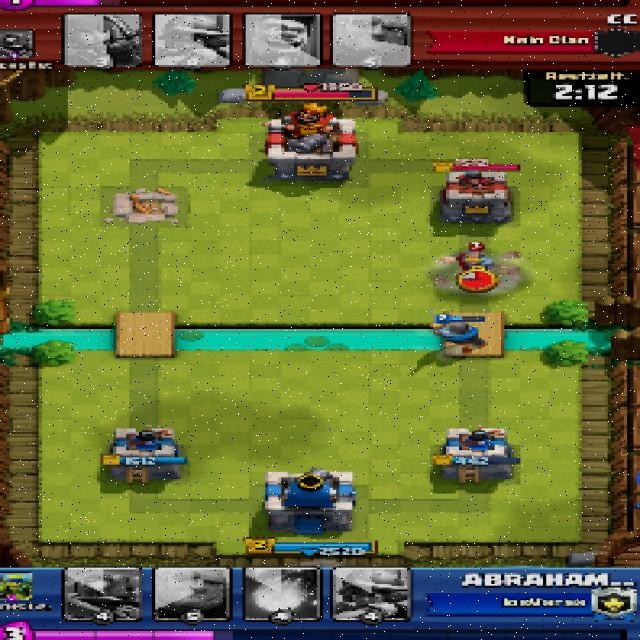Enemy-Knight: (442, 250, 500, 285)
Player-Knight: (429, 316, 486, 354)
